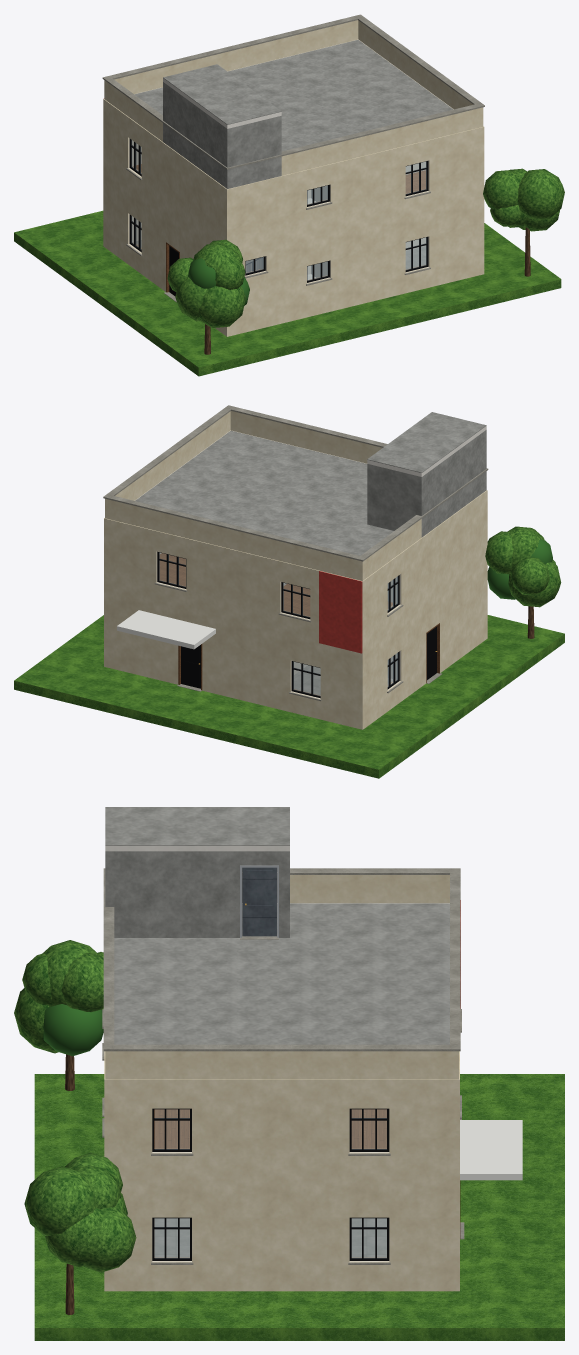
Rendered from b_bauhaus_house.gltf.
3 renders of one model, top to bottom at view 1: azimuth 30°, elevation 25°; view 2: azimuth 150°, elevation 25°; view 3: azimuth 270°, elevation 25°, orthographic. The views are drawn at different scales.
Parts seen in each view (by area): view 1: S_bauhaus_house; view 2: S_bauhaus_house, D_bauhaus_house_F1_S1_Door0, D_bauhaus_house_F1_E1_Door0; view 3: S_bauhaus_house, D_bauhaus_house_PH_W0_Door0.
Part boxes in pixels (x1,y1,x2,y2): S_bauhaus_house: [14, 14, 564, 376]; S_bauhaus_house: [14, 405, 564, 778]; D_bauhaus_house_F1_S1_Door0: [181, 645, 200, 688]; D_bauhaus_house_F1_E1_Door0: [427, 626, 437, 679]; S_bauhaus_house: [14, 807, 564, 1340]; D_bauhaus_house_PH_W0_Door0: [242, 867, 276, 936].
Size of the model in its own units: 17.81 by 9.9 by 15.58.
Materials: 23 (15 with a texture image).
